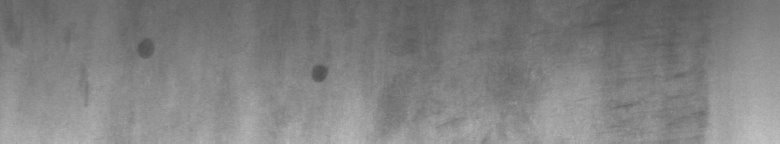fi: (308, 59, 332, 89)
